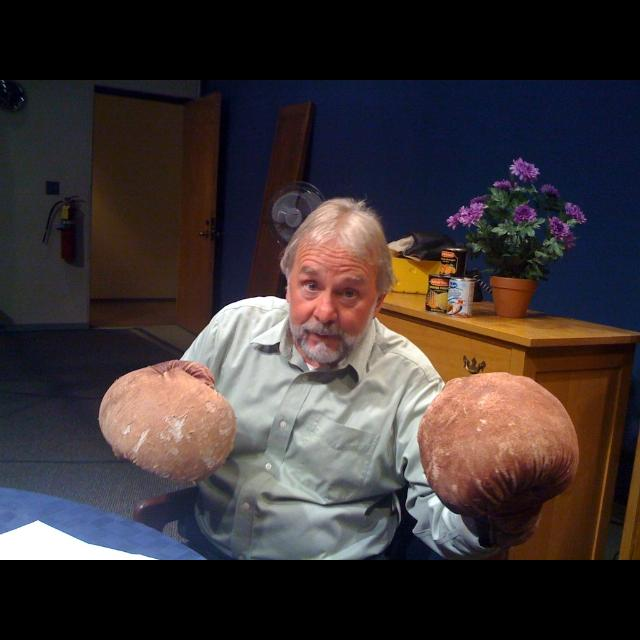Flower: (445, 202, 489, 232), (546, 218, 580, 248), (508, 158, 540, 182), (564, 202, 588, 228), (536, 182, 560, 204), (514, 202, 534, 226), (490, 179, 514, 197)
